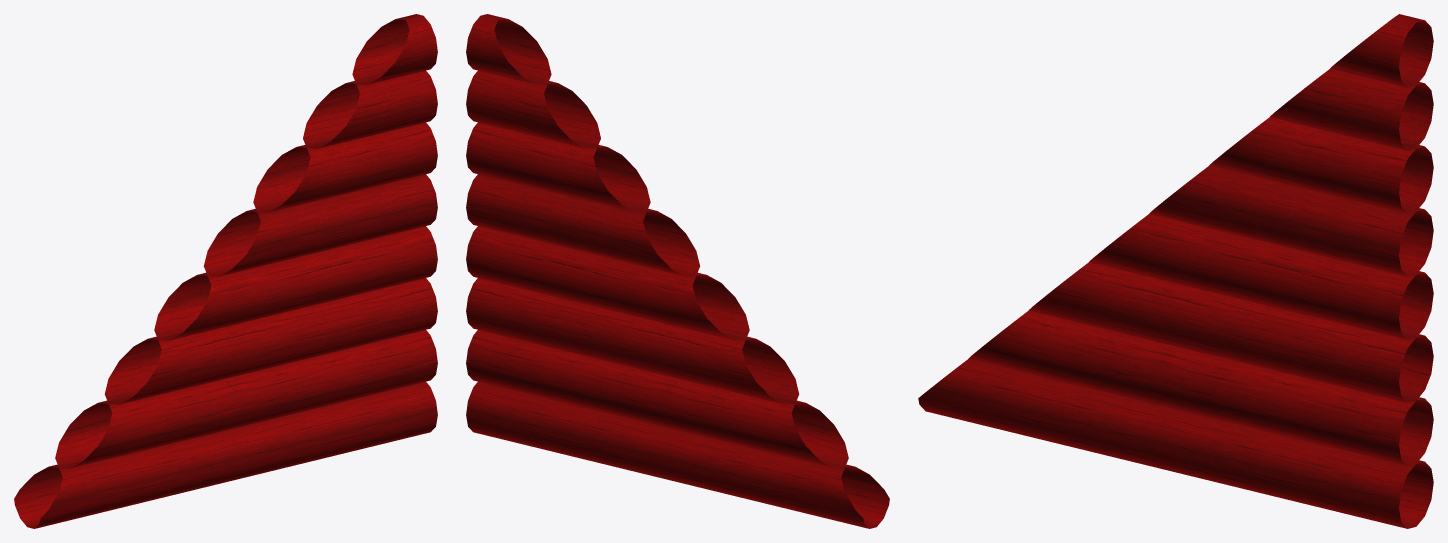
File: WallLogTriangle02.fbx
The picture shows the model from 3 angles, left to right: view 1: azimuth 30°, elevation 25°; view 2: azimuth 150°, elevation 25°; view 3: azimuth 330°, elevation 25°; orthographic projection. The views are drawn at different scales.
Parts seen in each view (by area): view 1: WallLogTriangle02_LOD0; view 2: WallLogTriangle02_LOD0; view 3: WallLogTriangle02_LOD0.
Part boxes in pixels (x1=…): WallLogTriangle02_LOD0: x1=14, y1=14, x2=437, y2=528; WallLogTriangle02_LOD0: x1=466, y1=14, x2=889, y2=528; WallLogTriangle02_LOD0: x1=918, y1=14, x2=1433, y2=528.
Size of what is drawn, in the model's own units: 2 by 2 by 0.25.
